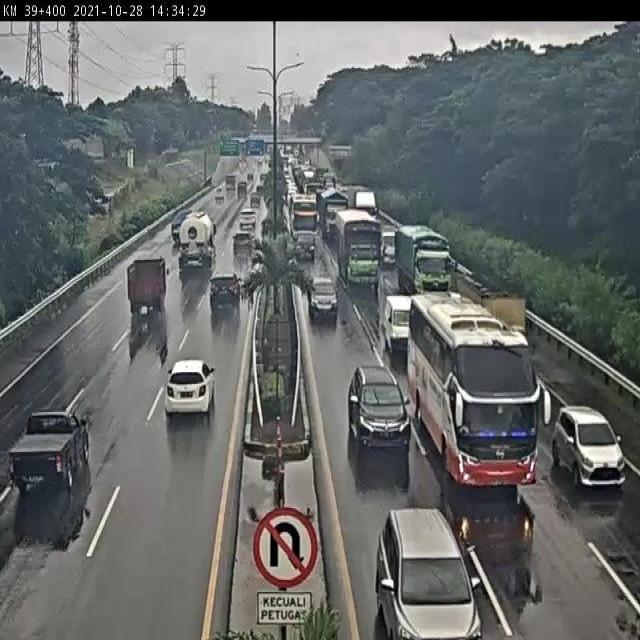big bus: (410, 283, 553, 489)
big truck: (333, 211, 386, 292), (394, 224, 453, 296)
car: (371, 501, 483, 640), (5, 405, 92, 496), (551, 400, 630, 491), (349, 364, 412, 456), (165, 358, 216, 422), (378, 288, 418, 352), (209, 271, 247, 312), (307, 275, 340, 321), (230, 232, 259, 261), (293, 231, 319, 261)
small truck: (175, 209, 216, 275), (126, 260, 167, 323)
